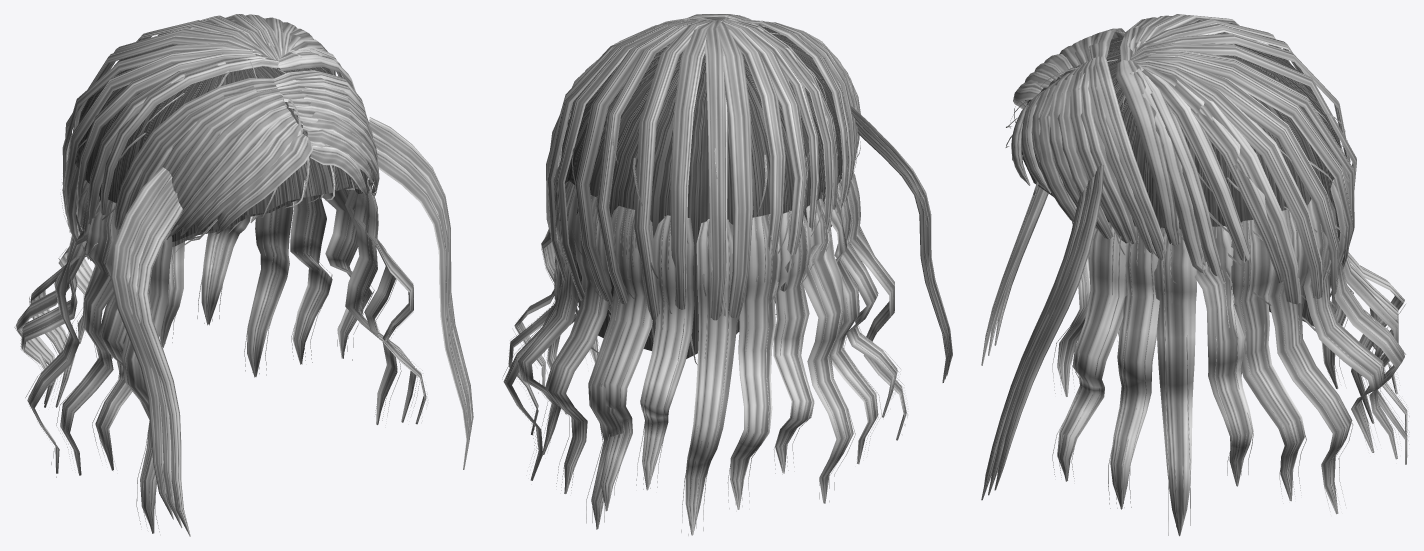
Rendered from unified_m_bob.glb.
3 renders of one model, left to right at view 1: azimuth 30°, elevation 25°; view 2: azimuth 150°, elevation 25°; view 3: azimuth 270°, elevation 25°, orthographic. The views are drawn at different scales.
Parts seen in each view (by area): view 1: Hair_directional_locks, Hair_face_framing_lock, Hair_scalp, Hair_face_framing_lock.001, Hair_wavy_layer.002, Hair_wavy_layer.014, Hair_wavy_layer.013, Hair_wavy_layer, Hair_wavy_layer.003, Hair_wavy_layer.011, Hair_wavy_layer.001, Hair_wavy_layer.012 (+10 smaller); view 2: Hair_directional_locks, Hair_scalp, Hair_wavy_layer.006, Hair_wavy_layer.005, Hair_wavy_layer.007, Hair_wavy_layer.003, Hair_wavy_layer.004, Hair_wavy_layer.016, Hair_wavy_layer.008, Hair_wavy_layer.017, Hair_face_framing_lock, Hair_wavy_layer.015 (+15 smaller); view 3: Hair_directional_locks, Hair_wavy_layer.011, Hair_wavy_layer.010, Hair_scalp, Hair_wavy_layer.013, Hair_wavy_layer.009, Hair_face_framing_lock.001, Hair_wavy_layer.012, Hair_wavy_layer.014, Hair_wavy_layer.015, Hair_wavy_layer.016, Hair_face_framing_lock (+13 smaller).
Boxes of the visible parts, bbox=[...] form: Hair_directional_locks: bbox=[62, 14, 379, 259]; Hair_face_framing_lock: bbox=[111, 167, 190, 536]; Hair_scalp: bbox=[75, 44, 367, 260]; Hair_face_framing_lock.001: bbox=[369, 117, 473, 469]; Hair_wavy_layer.002: bbox=[60, 199, 118, 475]; Hair_wavy_layer.014: bbox=[247, 202, 293, 377]; Hair_wavy_layer.013: bbox=[290, 195, 332, 364]; Hair_wavy_layer: bbox=[121, 231, 172, 533]; Hair_wavy_layer.003: bbox=[27, 180, 99, 473]; Hair_wavy_layer.011: bbox=[345, 188, 397, 424]; Hair_wavy_layer.001: bbox=[95, 229, 132, 470]; Hair_wavy_layer.012: bbox=[322, 186, 372, 358]; Hair_directional_locks: bbox=[546, 14, 860, 341]; Hair_scalp: bbox=[561, 25, 842, 358]; Hair_wavy_layer.006: bbox=[685, 219, 736, 535]; Hair_wavy_layer.005: bbox=[730, 214, 779, 509]; Hair_wavy_layer.007: bbox=[640, 215, 694, 490]; Hair_wavy_layer.003: bbox=[802, 198, 853, 503]; Hair_wavy_layer.004: bbox=[773, 211, 813, 473]; Hair_wavy_layer.016: bbox=[545, 195, 611, 493]; Hair_wavy_layer.008: bbox=[599, 209, 653, 511]; Hair_wavy_layer.017: bbox=[588, 206, 634, 529]; Hair_face_framing_lock: bbox=[851, 106, 952, 382]; Hair_wavy_layer.015: bbox=[517, 180, 578, 454]; Hair_directional_locks: bbox=[1011, 14, 1356, 307]; Hair_wavy_layer.011: bbox=[1154, 227, 1196, 536]; Hair_wavy_layer.010: bbox=[1110, 226, 1159, 509]; Hair_scalp: bbox=[1022, 32, 1341, 326]; Hair_wavy_layer.013: bbox=[1231, 220, 1305, 501]; Hair_wavy_layer.009: bbox=[1057, 222, 1127, 481]; Hair_face_framing_lock.001: bbox=[981, 165, 1103, 500]; Hair_wavy_layer.012: bbox=[1195, 226, 1253, 486]; Hair_wavy_layer.014: bbox=[1268, 209, 1352, 514]; Hair_wavy_layer.015: bbox=[1303, 194, 1384, 452]; Hair_wavy_layer.016: bbox=[1330, 178, 1404, 459]; Hair_face_framing_lock: bbox=[981, 186, 1048, 365].
Bounding box in the file's own units: 0.1286 × 0.1525 × 0.1379.
Materials: 2 (2 with a texture image).
